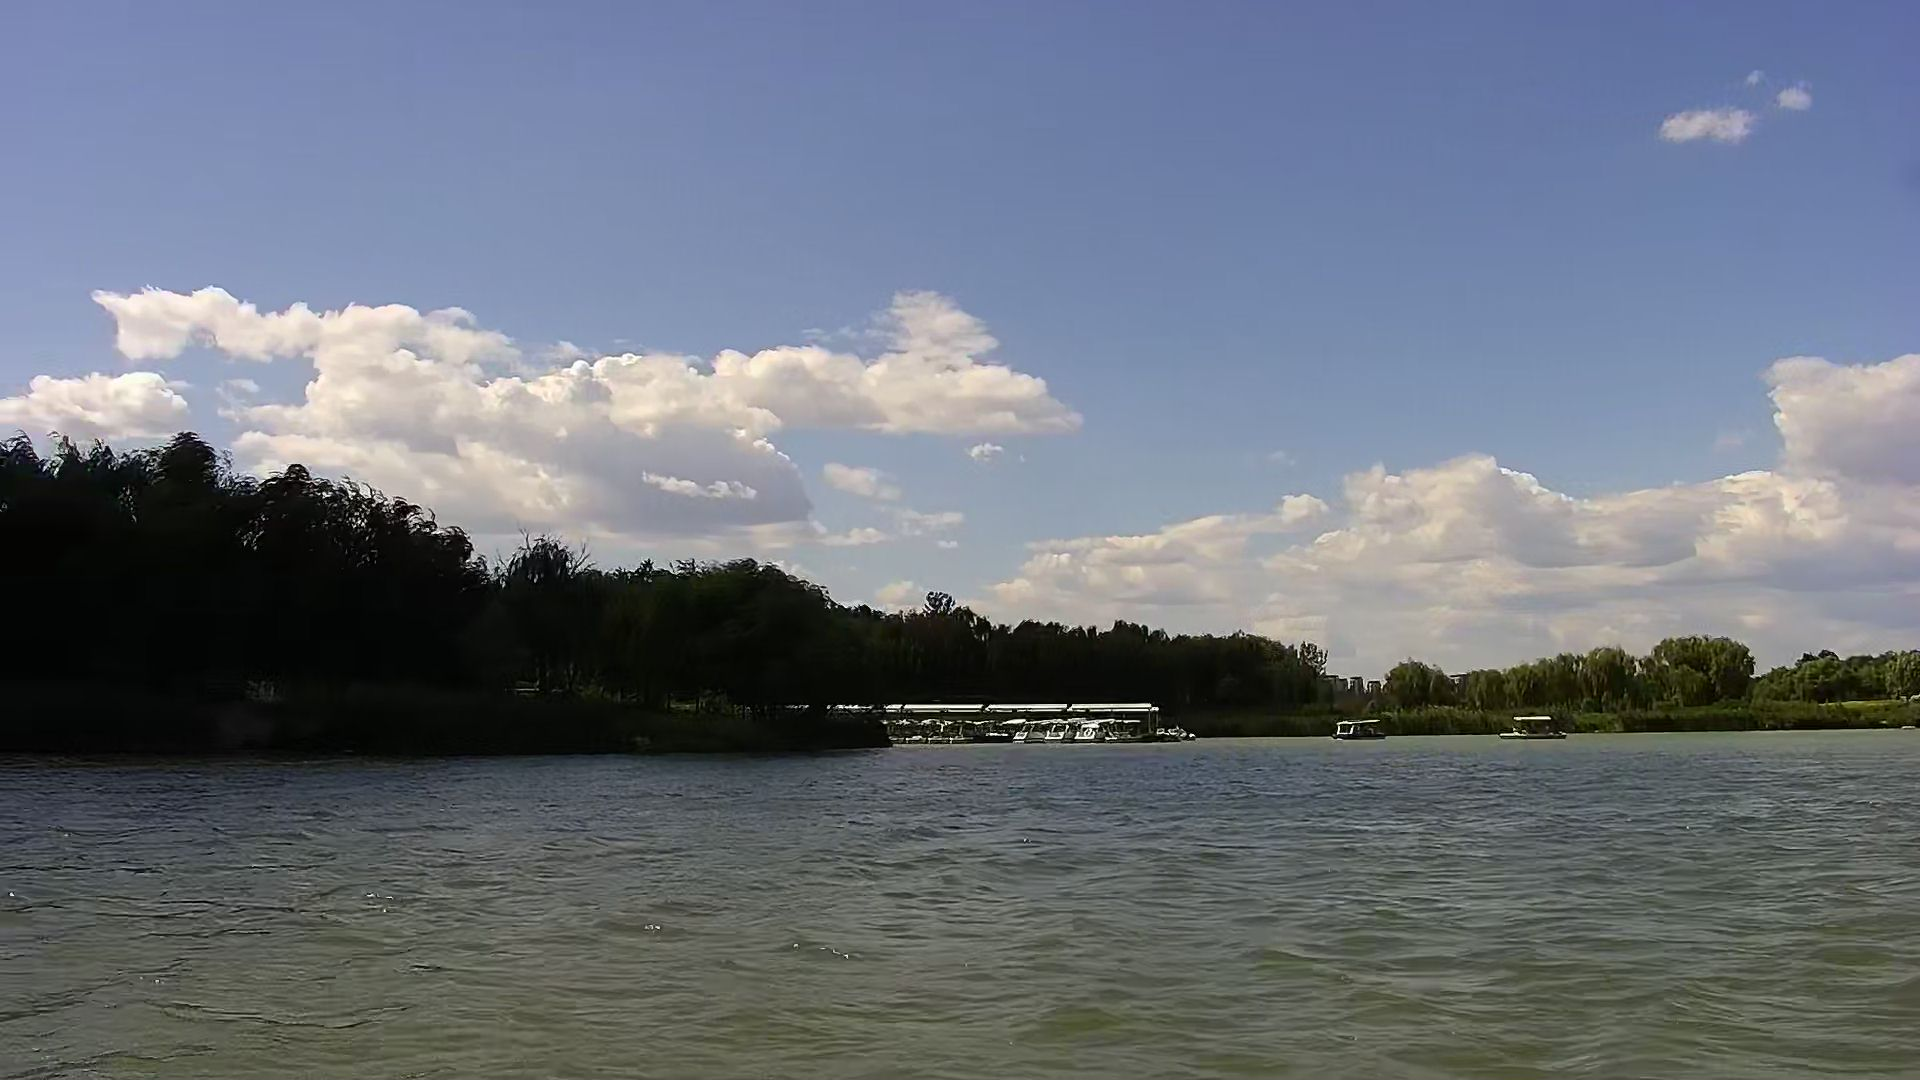boat: (1077, 716, 1145, 756), (1494, 711, 1568, 744), (985, 709, 1027, 746), (1335, 716, 1396, 741), (1015, 717, 1058, 748), (1044, 716, 1085, 742)
